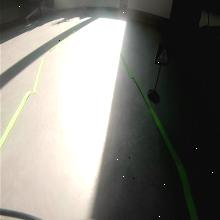crosswalk: (154, 43, 173, 67)
